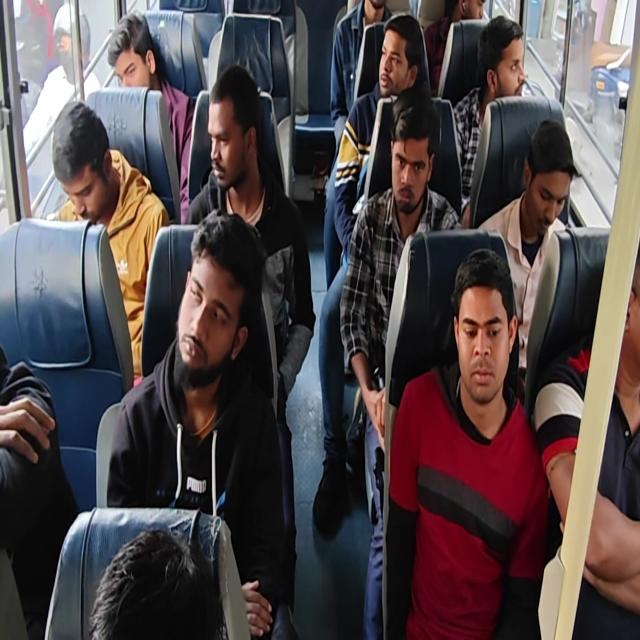person: (2, 2, 638, 638), (105, 208, 287, 638), (184, 64, 316, 620), (338, 87, 464, 638), (382, 246, 550, 638), (312, 11, 430, 538), (533, 239, 639, 638), (50, 100, 170, 384), (477, 118, 578, 403), (326, 13, 430, 280), (0, 342, 79, 638), (106, 10, 196, 224), (22, 4, 101, 217), (88, 526, 226, 639), (452, 15, 527, 222), (329, 0, 392, 159), (423, 0, 486, 95)
